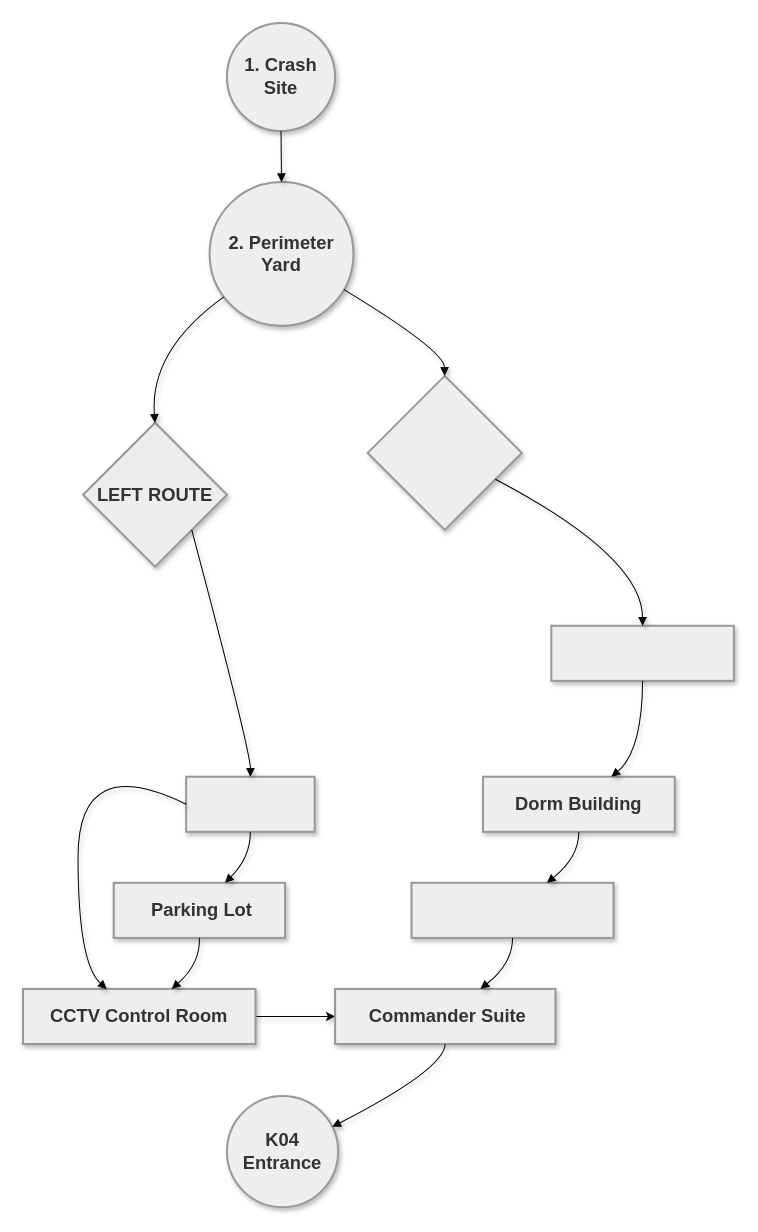
This 758x1232 diagram has some shape labels left out. The centre of each missing label's shape, as x and y in pixels:
Armory Storage: (513,911)
Guard Tower: (643,654)
RIGHT ROUTE: (445,454)
Ruins: (251,805)
